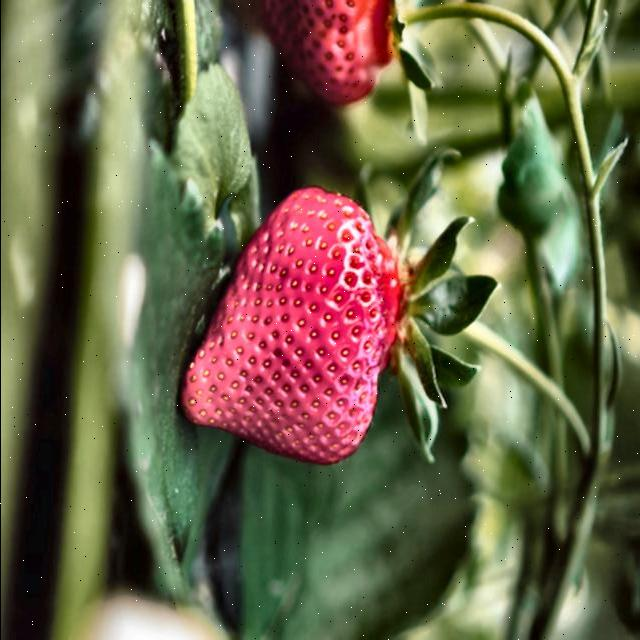strawberry: (180, 188, 401, 464), (263, 0, 394, 105)
